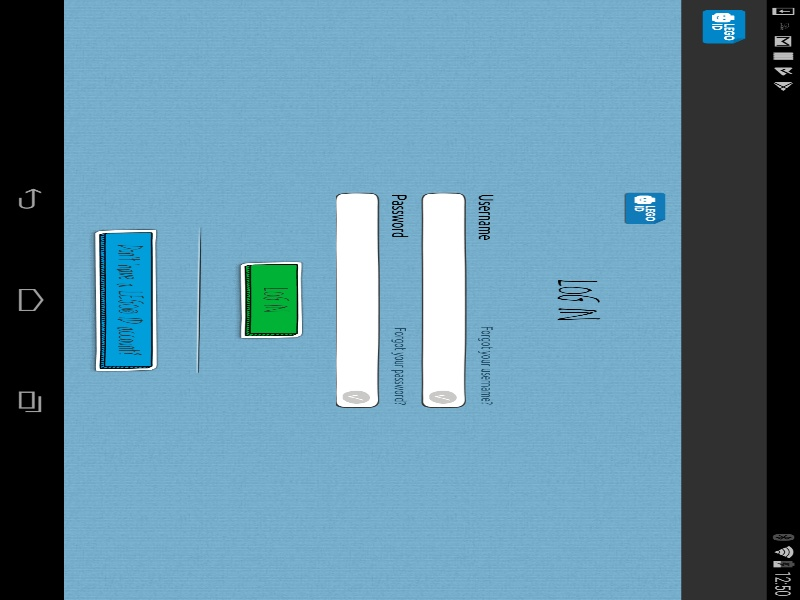Button: (554, 232, 726, 265)
